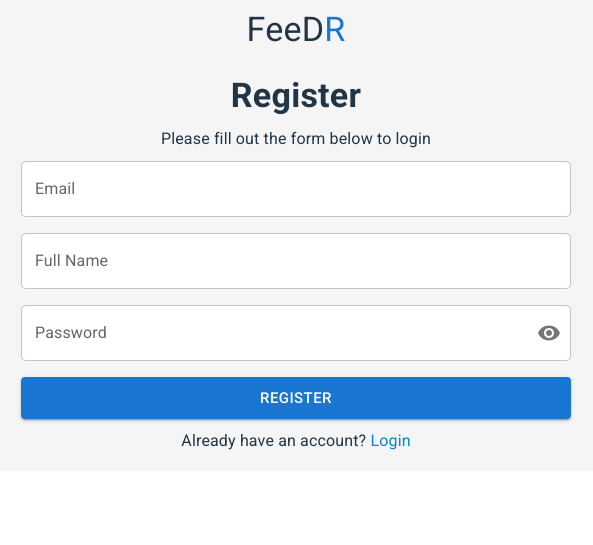
Test: shows error message for fullname with length less than 3
In the field labelled "Full Name": (296, 261) 21,233 -> 571,289, type "te"
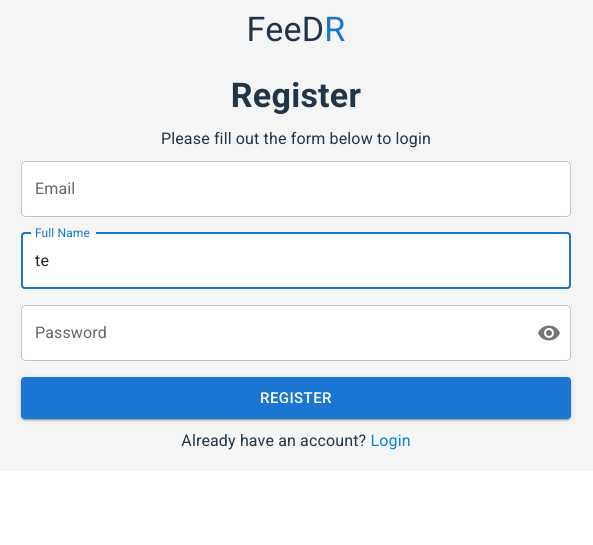
Click the button "Register": click(296, 398) 21,377 -> 571,419
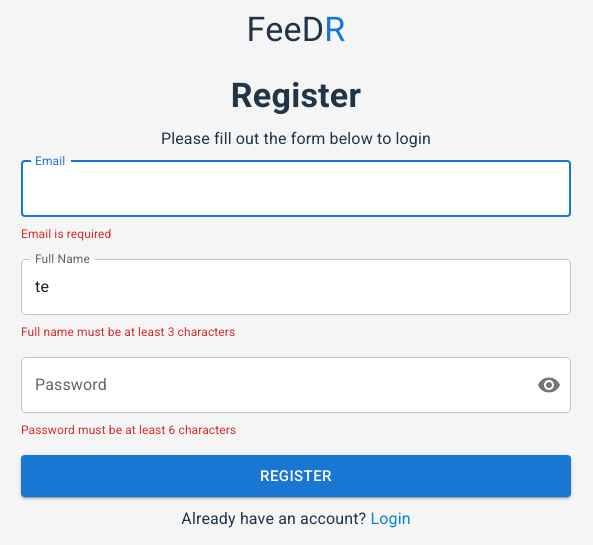
Check: the text "Full name must be at least 3 characters" is shown, box 21,325 -> 235,339
